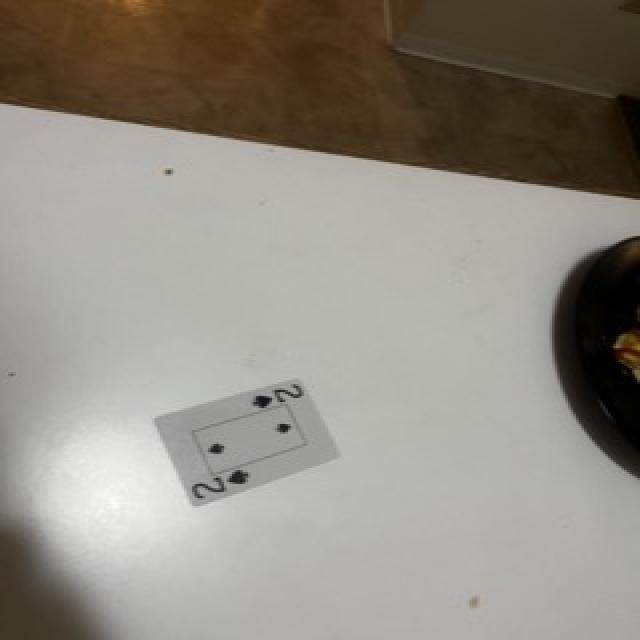2 of spades: (155, 380, 340, 505)
